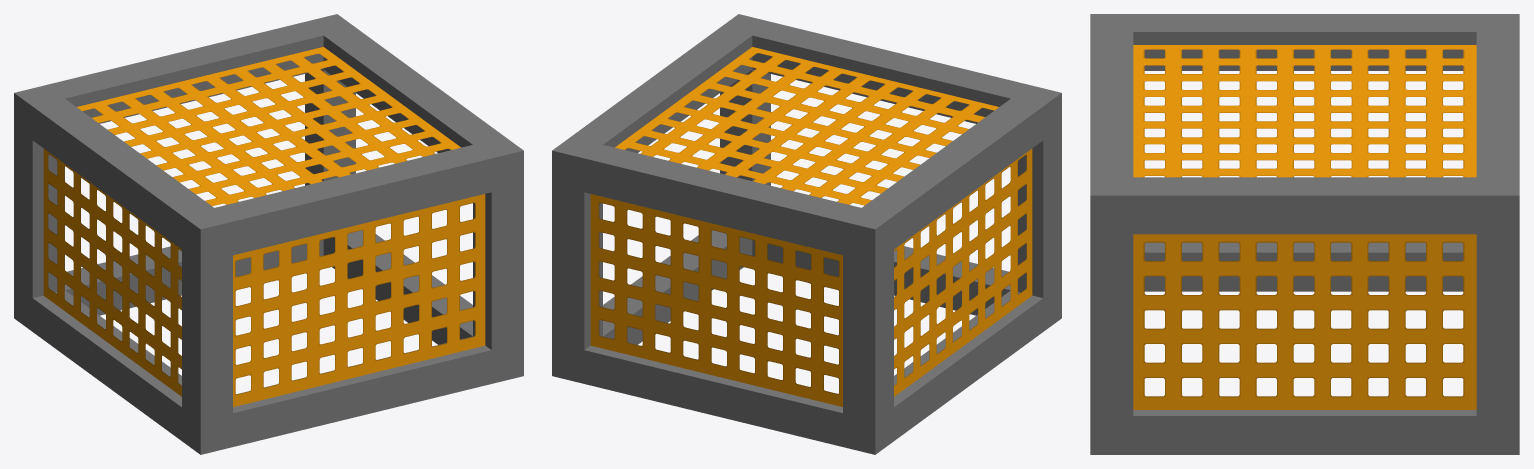
Rendered from transparency-box.gltf.
The picture shows the model from 3 angles, left to right: view 1: azimuth 30°, elevation 25°; view 2: azimuth 150°, elevation 25°; view 3: azimuth 270°, elevation 25°; orthographic projection. The views are drawn at different scales.
Visible parts, largest first — view 1: transparency-box; view 2: transparency-box; view 3: transparency-box.
Boxes of the visible parts, x1,y1,x2,y2 form: transparency-box: (14,14,523,454); transparency-box: (552,14,1061,454); transparency-box: (1090,14,1519,454).
Bounding box in the file's own units: 3 × 2 × 3.
1 material, 1 textured.
